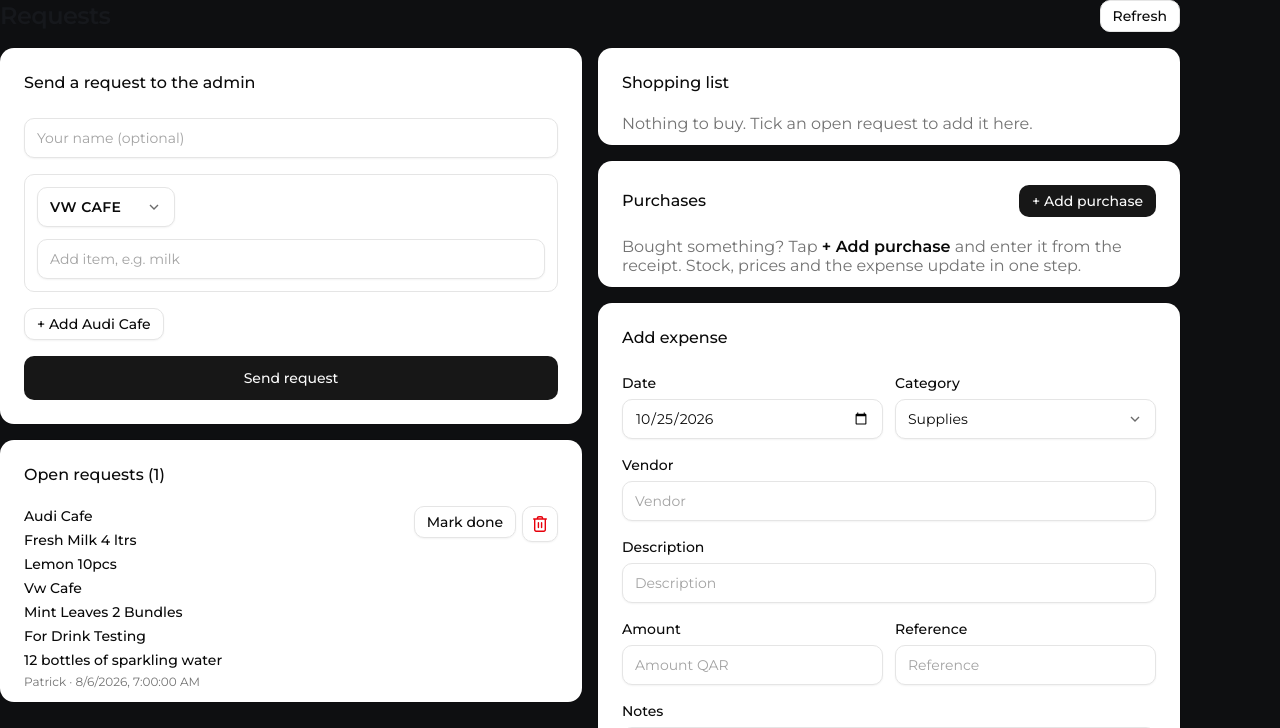
it: raising an expense from a requested item › leaves the cafe out when the request never named one
Click the button titled "Open this request" at (58, 516), box left=24, top=506, right=402, bottom=690
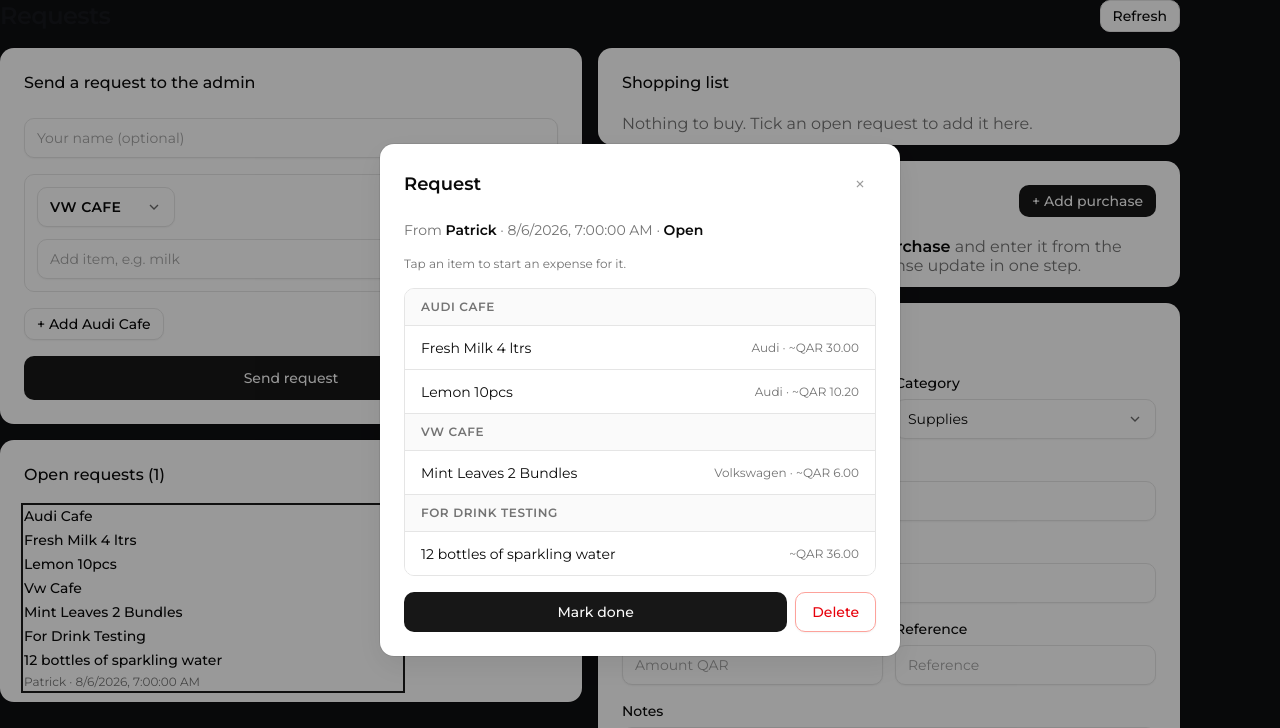
Click the button "12 bottles of sparkling water ~QAR 36.00" at (518, 554), box left=405, top=531, right=875, bottom=575
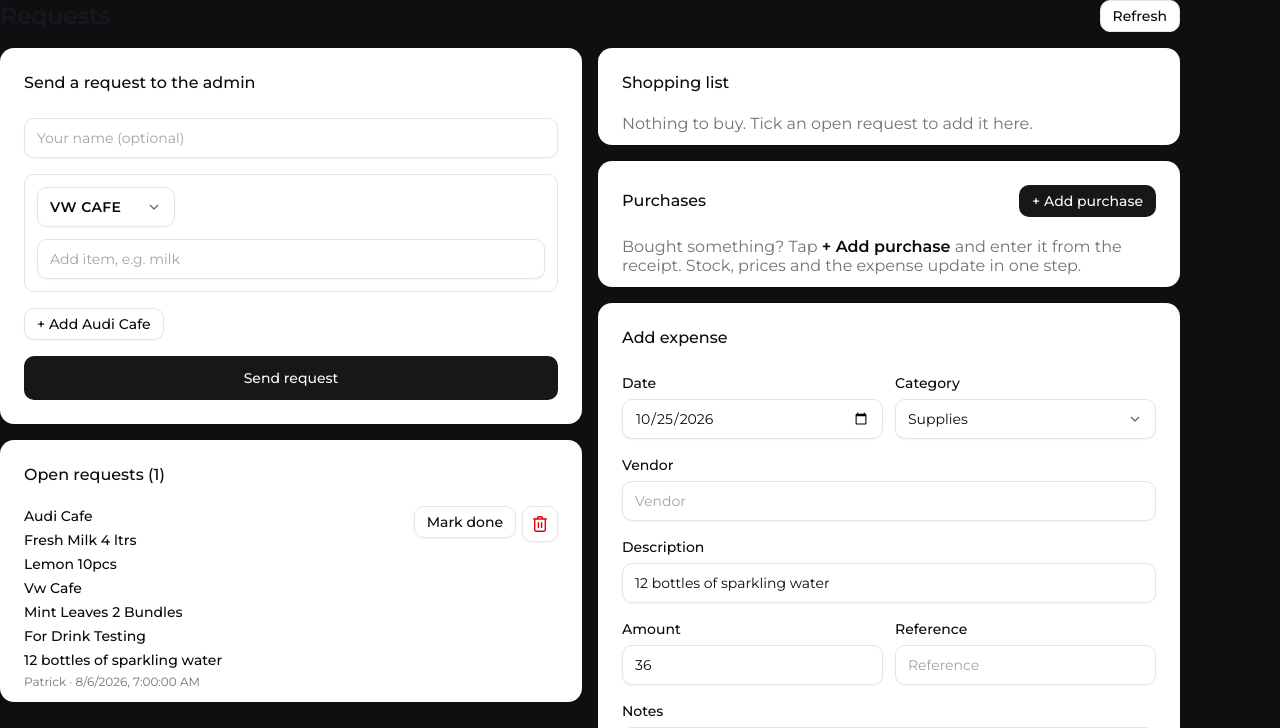
Check: the field with placeholder "Description" holds "12 bottles of sparkling water", box left=622, top=563, right=1156, bottom=603
